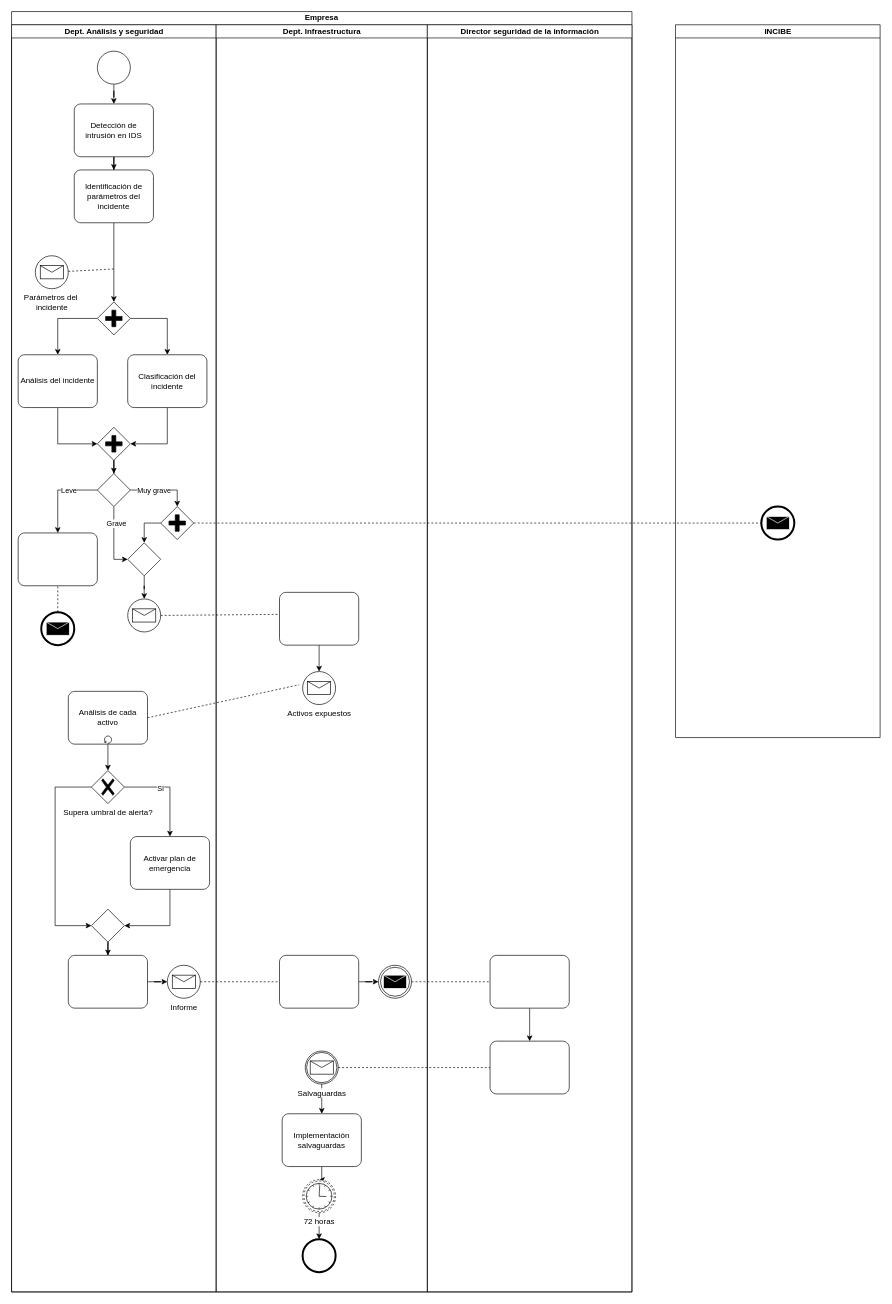
Image size: 892x1304. Some labels were removed from this diagram. Here are the shapes that lost their labels. From the top down, the centre of each, then its label:
the point at 777,523: Formulario sobre incidente
the point at 57,559: Actualizar bd
the point at 57,628: BD <actualizada>
the point at 144,615: Comunicación del incidente
the point at 319,618: Generar lista de activos
the point at 108,981: Generar informe
the point at 319,981: Completar informe con valoración costes
the point at 529,981: Clasificar riesgo
the point at 529,1067: Decidir salvaguardas a implementar
